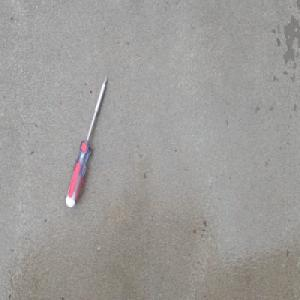Screwdriver: (64, 73, 108, 209)
